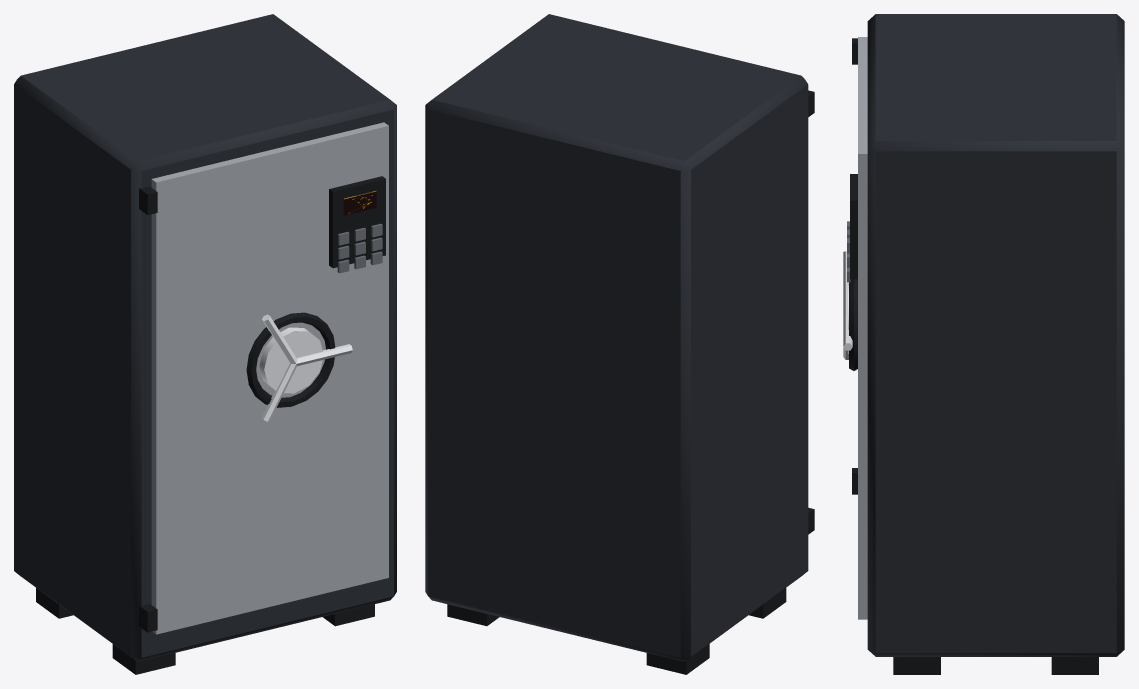
The model's file is weaponrack_gun_safe.glb.
3 renders of one model, left to right at view 1: azimuth 30°, elevation 25°; view 2: azimuth 150°, elevation 25°; view 3: azimuth 270°, elevation 25°, orthographic. The views are drawn at different scales.
Parts seen in each view (by area): view 1: weaponrack_gun_safe; view 2: weaponrack_gun_safe; view 3: weaponrack_gun_safe.
Boxes of the visible parts, x1,y1,x2,y2 form: weaponrack_gun_safe: (14,14,396,674); weaponrack_gun_safe: (425,14,814,674); weaponrack_gun_safe: (843,14,1124,674).
Bounding box in the file's own units: 0.8 × 1.5 × 0.712.
6 materials, 1 textured.
